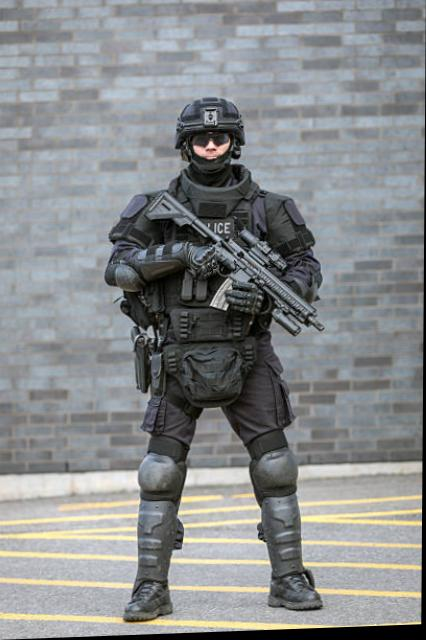other: (124, 107, 322, 618)
